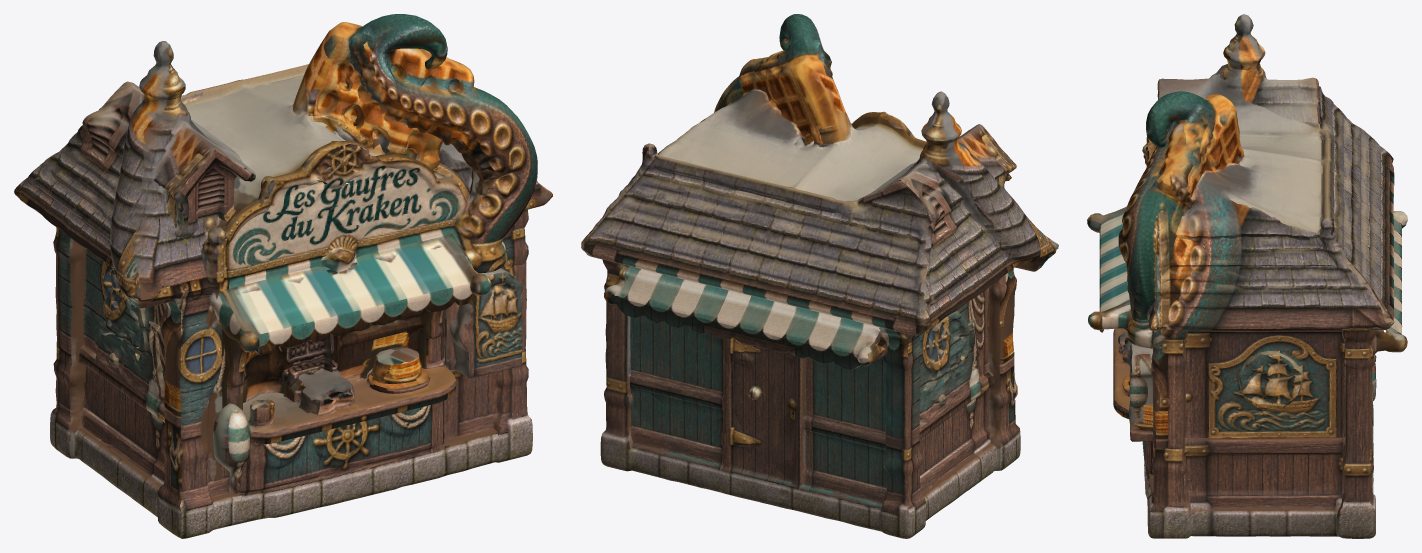
Rendered from stand-kraken-waffles.glb.
3 views of the same model, side by side, from view 1: azimuth 30°, elevation 25°; view 2: azimuth 150°, elevation 25°; view 3: azimuth 270°, elevation 25° (orthographic). The views are drawn at different scales.
Parts seen in each view (by area): view 1: tmpzipxr6le.ply; view 2: tmpzipxr6le.ply; view 3: tmpzipxr6le.ply.
Part boxes in pixels (<box>): tmpzipxr6le.ply: <box>14,14,552,538</box>; tmpzipxr6le.ply: <box>581,14,1058,538</box>; tmpzipxr6le.ply: <box>1087,14,1407,538</box>.
Size of the model in its own units: 1.91 by 1.99 by 1.45.
1 material, 1 textured.
